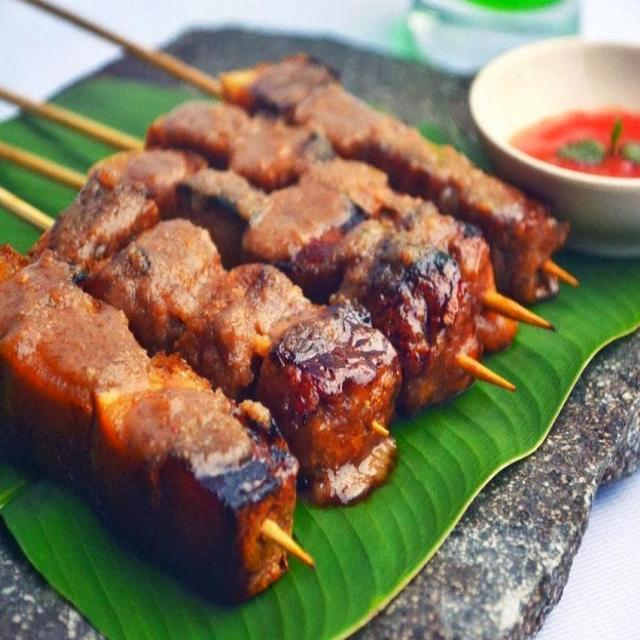Sate: (3, 6, 446, 562)
